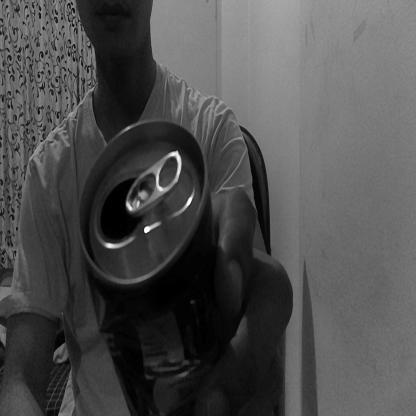alumunium_can: (79, 118, 229, 416)
